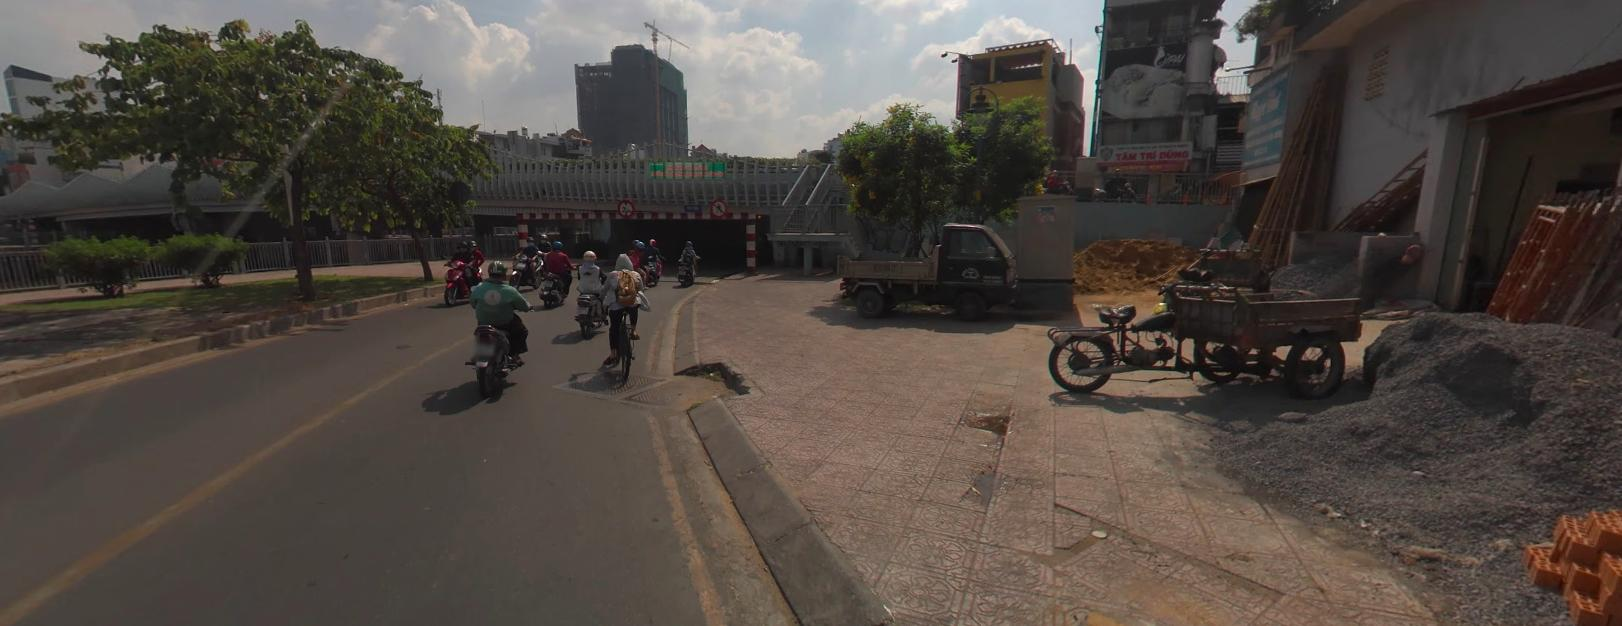Cam con lai: (617, 198, 634, 216), (710, 198, 728, 214)
